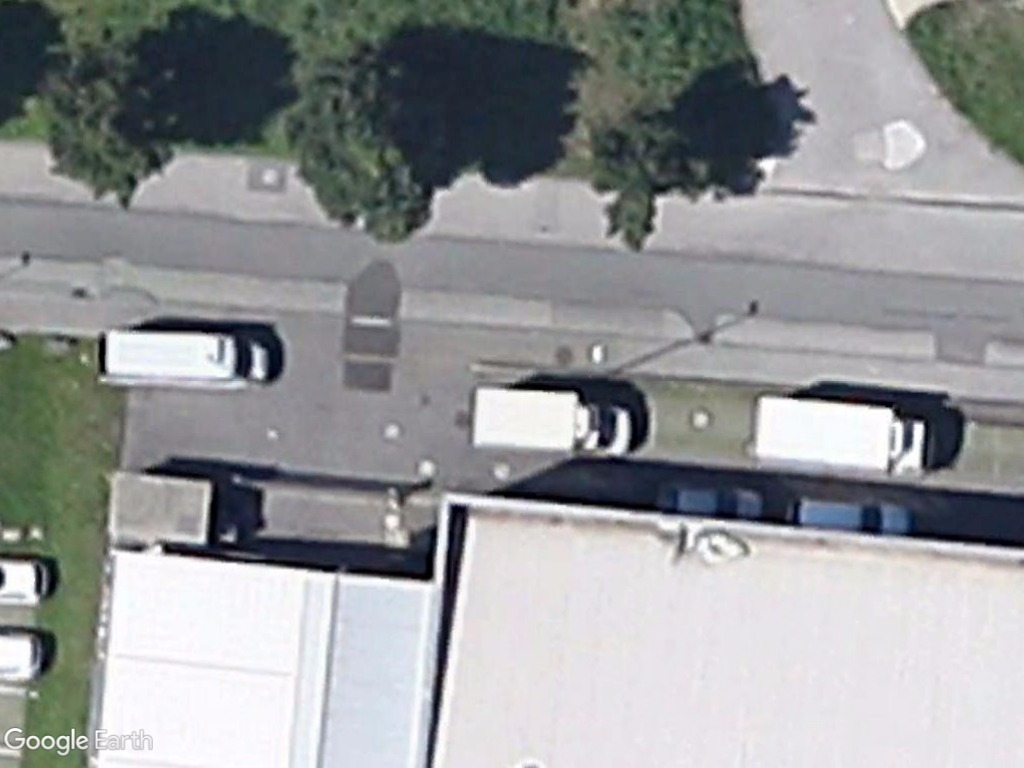truck: (745, 388, 937, 476)
van: (467, 380, 636, 459), (92, 323, 275, 391)
